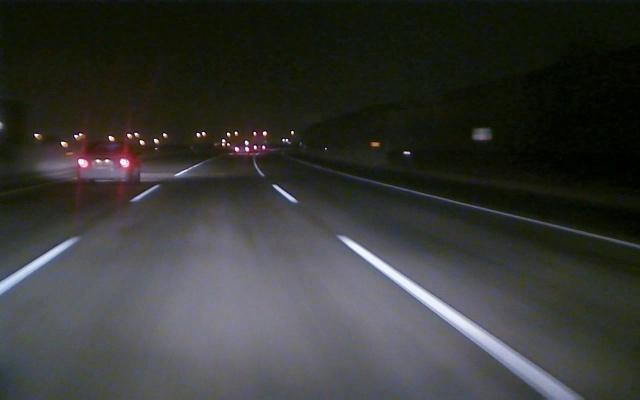lane: (273, 184, 585, 399), (365, 179, 640, 250), (2, 190, 152, 293)
